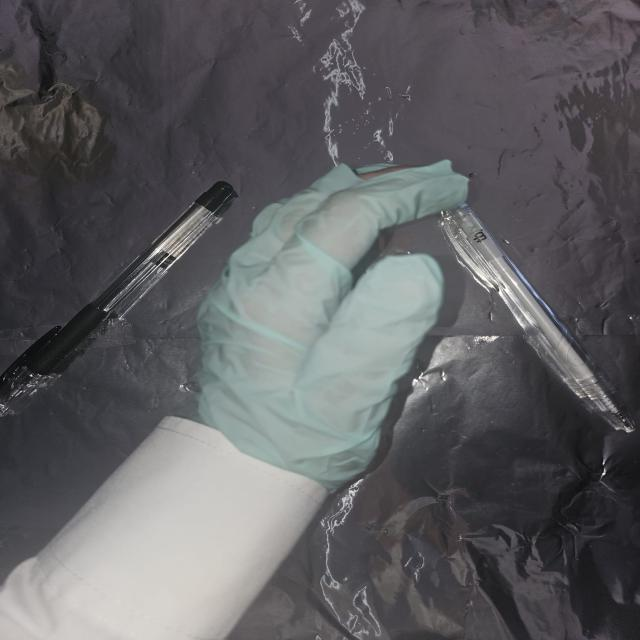gloves_damaged: (192, 156, 475, 486)
